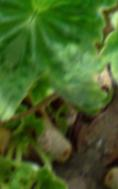Tomato leaf mosaic virus: (0, 0, 118, 159), (83, 14, 118, 88)
